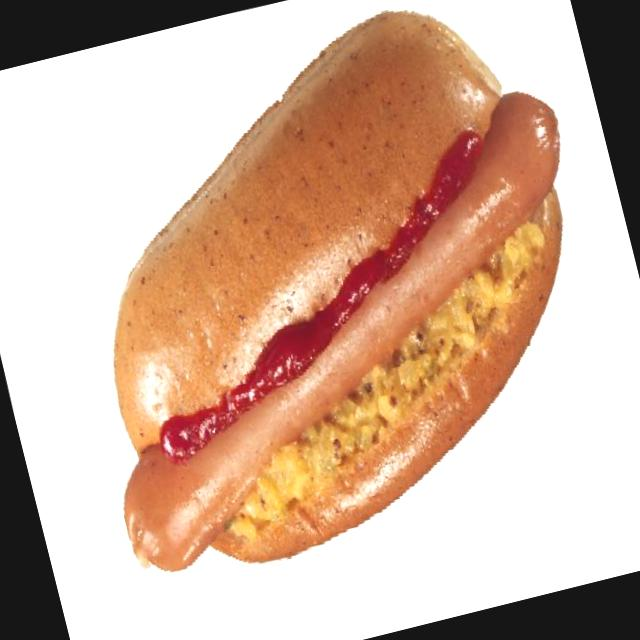Hot Dog: (18, 0, 640, 613)
